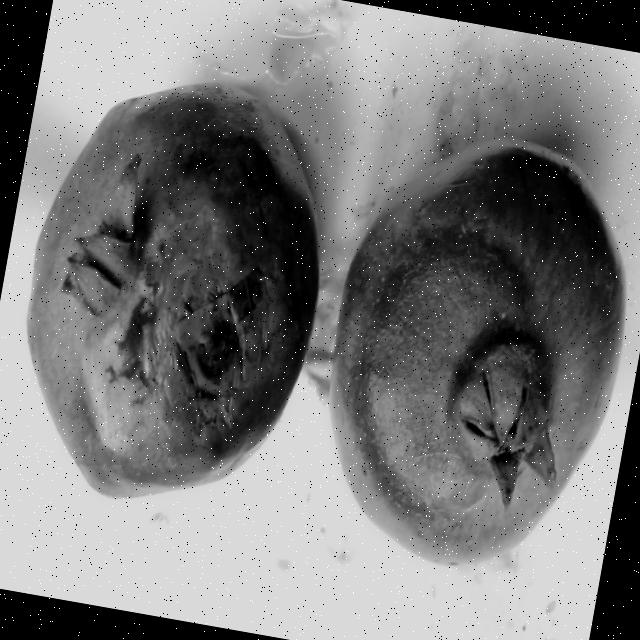Rotten: (0, 41, 354, 526), (295, 110, 640, 592)
